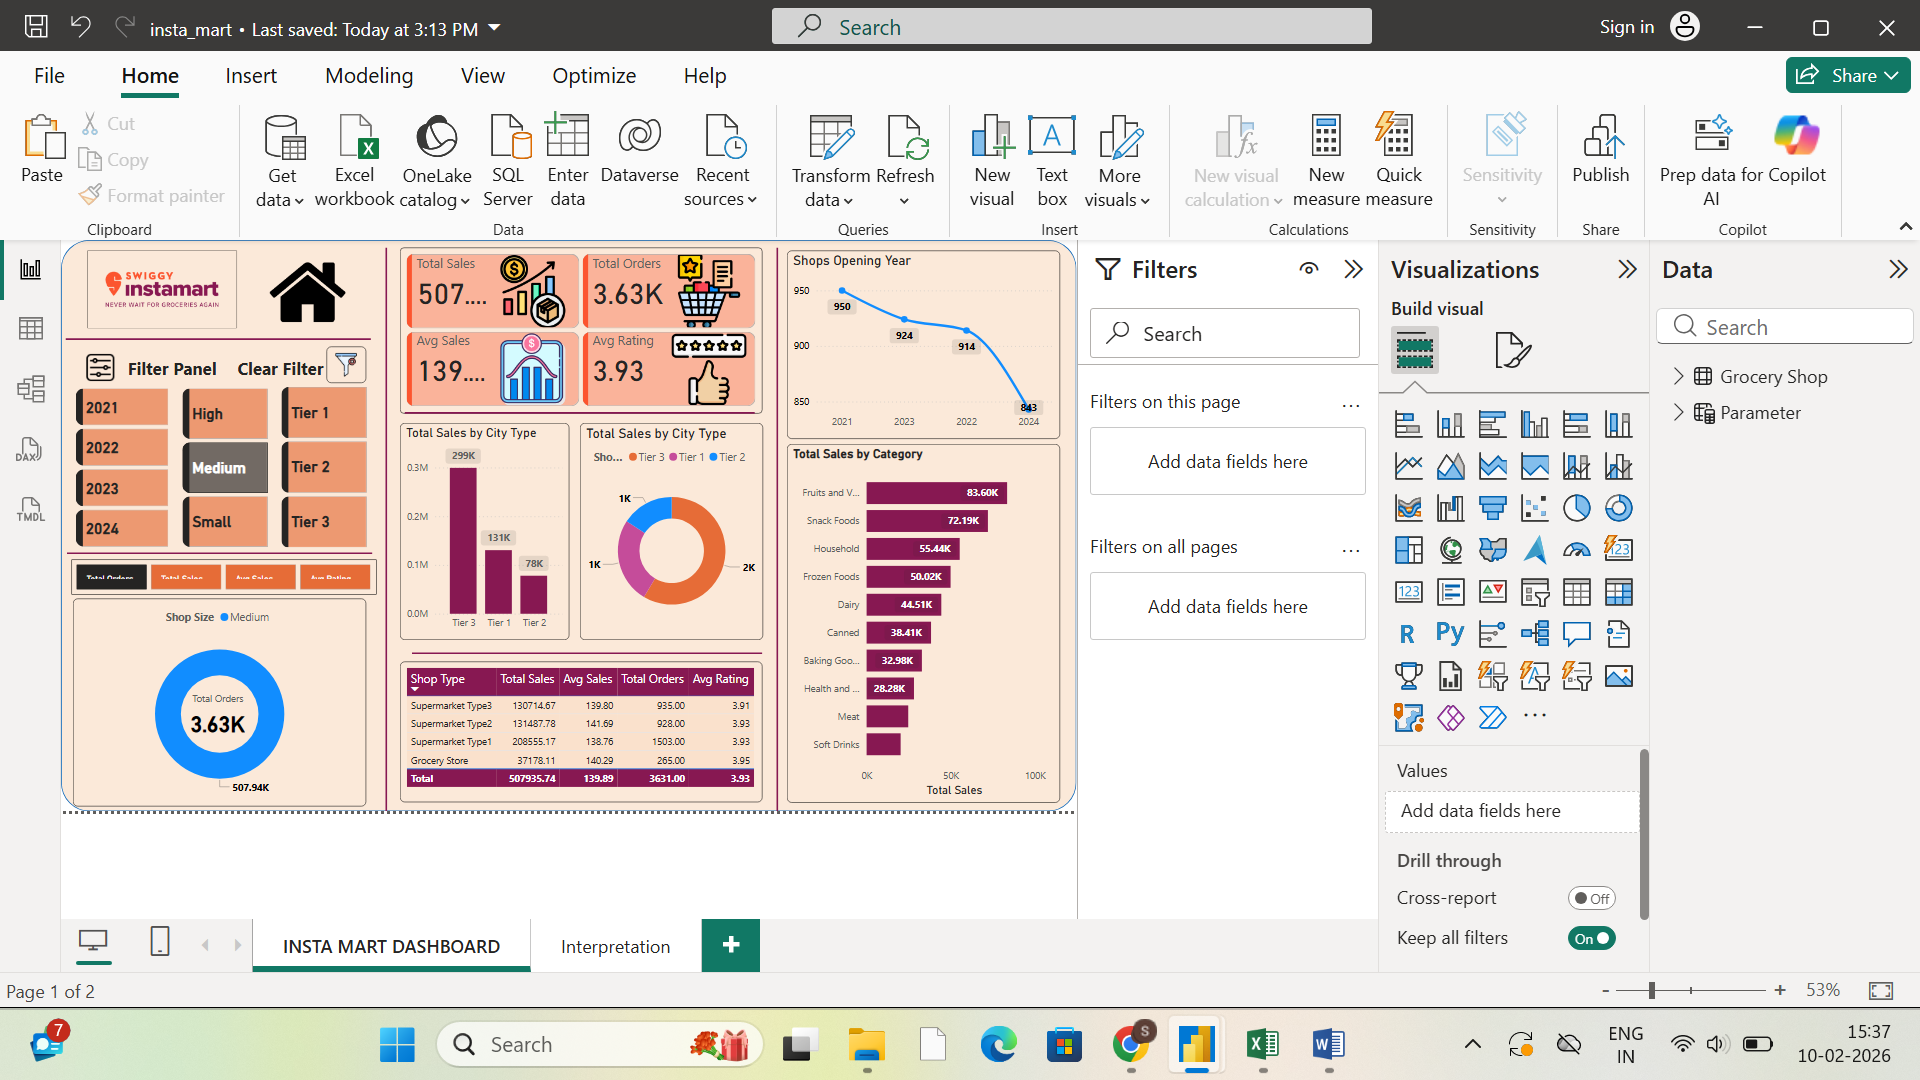

Layout of this report page (visuals, bound fields, positions):
{"tool":"powerbi","page":{"name":"INSTA MART DASHBOARD","canvas":[1280,720],"ordinal":0},"visuals":[{"type":"shape","box":[0,0,1279.4,719.9],"z":0},{"type":"image","box":[15.4,7.7,224.6,109.1],"z":1000},{"type":"cardVisual","fields":{"Data":["Grocery Shop.Total_sales","Grocery Shop.Total_orders","Grocery Shop.avg_sales","Grocery Shop.avg_rating"]},"box":[427.3,9,456.8,209.2],"z":2000},{"type":"donutChart","fields":{"Category":["Grocery Shop.Shop Size"],"Y":["Grocery Shop.Total Sales"]},"box":[15.4,451.7,369.6,261.8],"z":3000},{"type":"cardVisual","fields":{"Data":["Grocery Shop.Total Orders"]},"box":[130.9,537.7,134.7,118.1],"z":4000},{"type":"clusteredColumnChart","title":"Total Sales by City Type","fields":{"Y":["Grocery Shop.Total Sales"],"Category":["Grocery Shop.Shop City Type"]},"box":[427.3,231,213,273.3],"z":5000},{"type":"advancedSlicerVisual","fields":{"Values":["Parameter.Parameter"]},"box":[14.1,402.9,385,44.9],"z":6000},{"type":"donutChart","title":"Total Sales by City Type","fields":{"Category":["Grocery Shop.Shop City Type"],"Y":["Grocery Shop.Total Orders"]},"box":[653.2,231,231,273.3],"z":7000},{"type":"tableEx","fields":{"Values":["Grocery Shop.Shop Type","Grocery Shop.Total Sales","Grocery Shop.Avg Sales","Grocery Shop.Total Orders","Grocery Shop.Avg Rating"]},"box":[427.3,531.3,456.8,177.1],"z":8000},{"type":"lineChart","title":"Shops Opening Year","fields":{"Category":["Grocery Shop.Shop Opening Year"],"Y":["Grocery Shop.Total Orders"]},"box":[914.9,14.1,343.9,237.4],"z":9000},{"type":"clusteredBarChart","fields":{"Y":["Grocery Shop.Total Sales"],"Category":["Grocery Shop.Category"]},"box":[914.9,256.6,343.9,451.7],"z":10000},{"type":"advancedSlicerVisual","fields":{"Values":["Grocery Shop.Shop Opening Year"]},"box":[14.1,182.2,127,211.7],"z":11000},{"type":"advancedSlicerVisual","fields":{"Values":["Grocery Shop.Shop Size"]},"box":[147.6,182.2,118.1,211.7],"z":12000},{"type":"advancedSlicerVisual","fields":{"Values":["Grocery Shop.Shop City Type"]},"box":[272,179.7,118.1,214.3],"z":13000},{"type":"textbox","box":[37.2,141.2,179.7,39.8],"z":14000},{"type":"image","box":[24.4,138.6,50,44.9],"z":15000},{"type":"textbox","box":[218.1,141.2,151.4,42.3],"z":16000},{"type":"image","box":[256.6,14.1,107.8,105.2],"z":17000},{"type":"shape","box":[5.1,115.5,385,19.2],"z":18000},{"type":"shape","box":[7.7,376,385,37.2],"z":19000},{"type":"shape","box":[390.1,9,41.1,710.9],"z":20000},{"type":"shape","box":[880.3,9,43.6,710.9],"z":21000},{"type":"shape","box":[432.4,195.1,441.4,46.2],"z":22000},{"type":"shape","box":[442.7,501.7,441.4,35.9],"z":23000},{"type":"image","box":[334.9,133.5,50,46.2],"z":24000}]}

Visuals, with their boxes on the page's 1280x720 design canvas (x1, y1, x2, y2). These are canvas units, not pixel positions in the 1920x1080 screenshot, which may show the page scaled, cropped or inside an application window:
shape: [0,0,1279,720]
image: [15,8,240,117]
cardVisual - Grocery Shop.Total_sales x Grocery Shop.Total_orders: [427,9,884,218]
donutChart - Grocery Shop.Shop Size x Grocery Shop.Total Sales: [15,452,385,714]
cardVisual - Grocery Shop.Total Orders: [131,538,266,656]
"Total Sales by City Type" clusteredColumnChart: [427,231,640,504]
advancedSlicerVisual - Parameter.Parameter: [14,403,399,448]
"Total Sales by City Type" donutChart: [653,231,884,504]
tableEx - Grocery Shop.Shop Type x Grocery Shop.Total Sales: [427,531,884,708]
"Shops Opening Year" lineChart: [915,14,1259,252]
clusteredBarChart - Grocery Shop.Total Sales x Grocery Shop.Category: [915,257,1259,708]
advancedSlicerVisual - Grocery Shop.Shop Opening Year: [14,182,141,394]
advancedSlicerVisual - Grocery Shop.Shop Size: [148,182,266,394]
advancedSlicerVisual - Grocery Shop.Shop City Type: [272,180,390,394]
textbox: [37,141,217,181]
image: [24,139,74,184]
textbox: [218,141,370,184]
image: [257,14,364,119]
shape: [5,116,390,135]
shape: [8,376,393,413]
shape: [390,9,431,720]
shape: [880,9,924,720]
shape: [432,195,874,241]
shape: [443,502,884,538]
image: [335,134,385,180]
